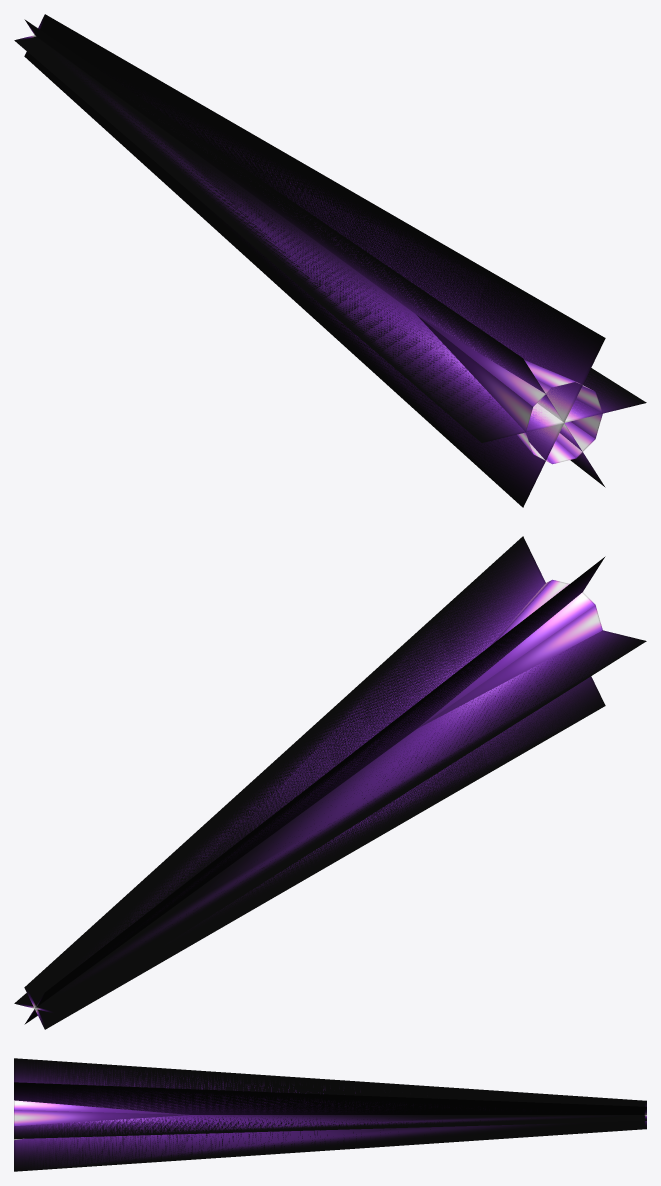
File: missile_flame.fbx
The picture shows the model from 3 angles, top to bottom: view 1: azimuth 30°, elevation 25°; view 2: azimuth 150°, elevation 25°; view 3: azimuth 270°, elevation 25°; orthographic projection. The views are drawn at different scales.
Parts seen in each view (by area): view 1: missile_flame; view 2: missile_flame; view 3: missile_flame.
Part boxes in pixels (x1,y1,x2,y2): missile_flame: [14, 14, 646, 507]; missile_flame: [14, 536, 646, 1029]; missile_flame: [14, 1058, 646, 1171].
Bounding box in the file's own units: 0.18 × 0.1559 × 1.
